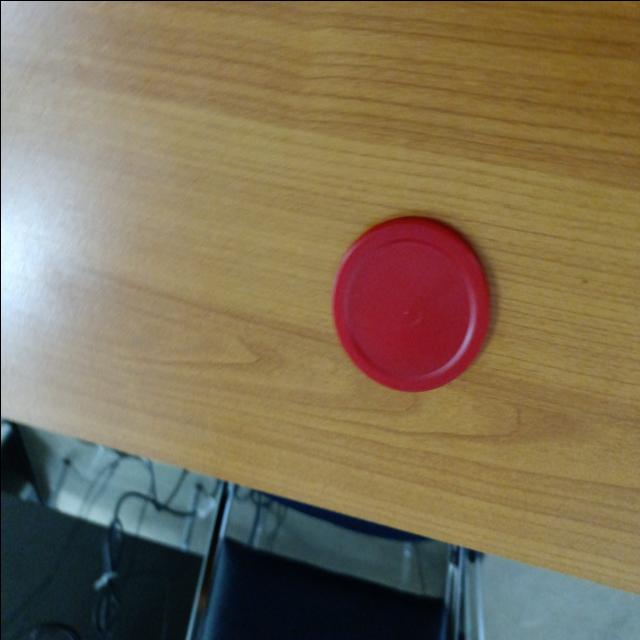chip: (330, 215, 492, 398)
